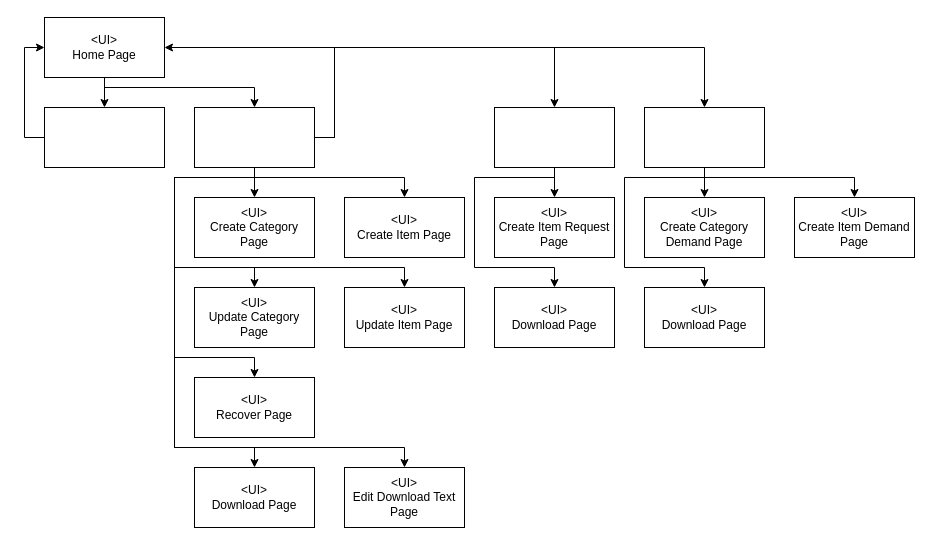
Image size: 932x545. Some labels were removed from this diagram. Each missing label, with the centre of its shape:
<UI> Demand Page: (x=704, y=137)
<UI> Inventory Page: (x=254, y=137)
<UI> Login Page: (x=104, y=137)
<UI> Request Page: (x=554, y=137)
